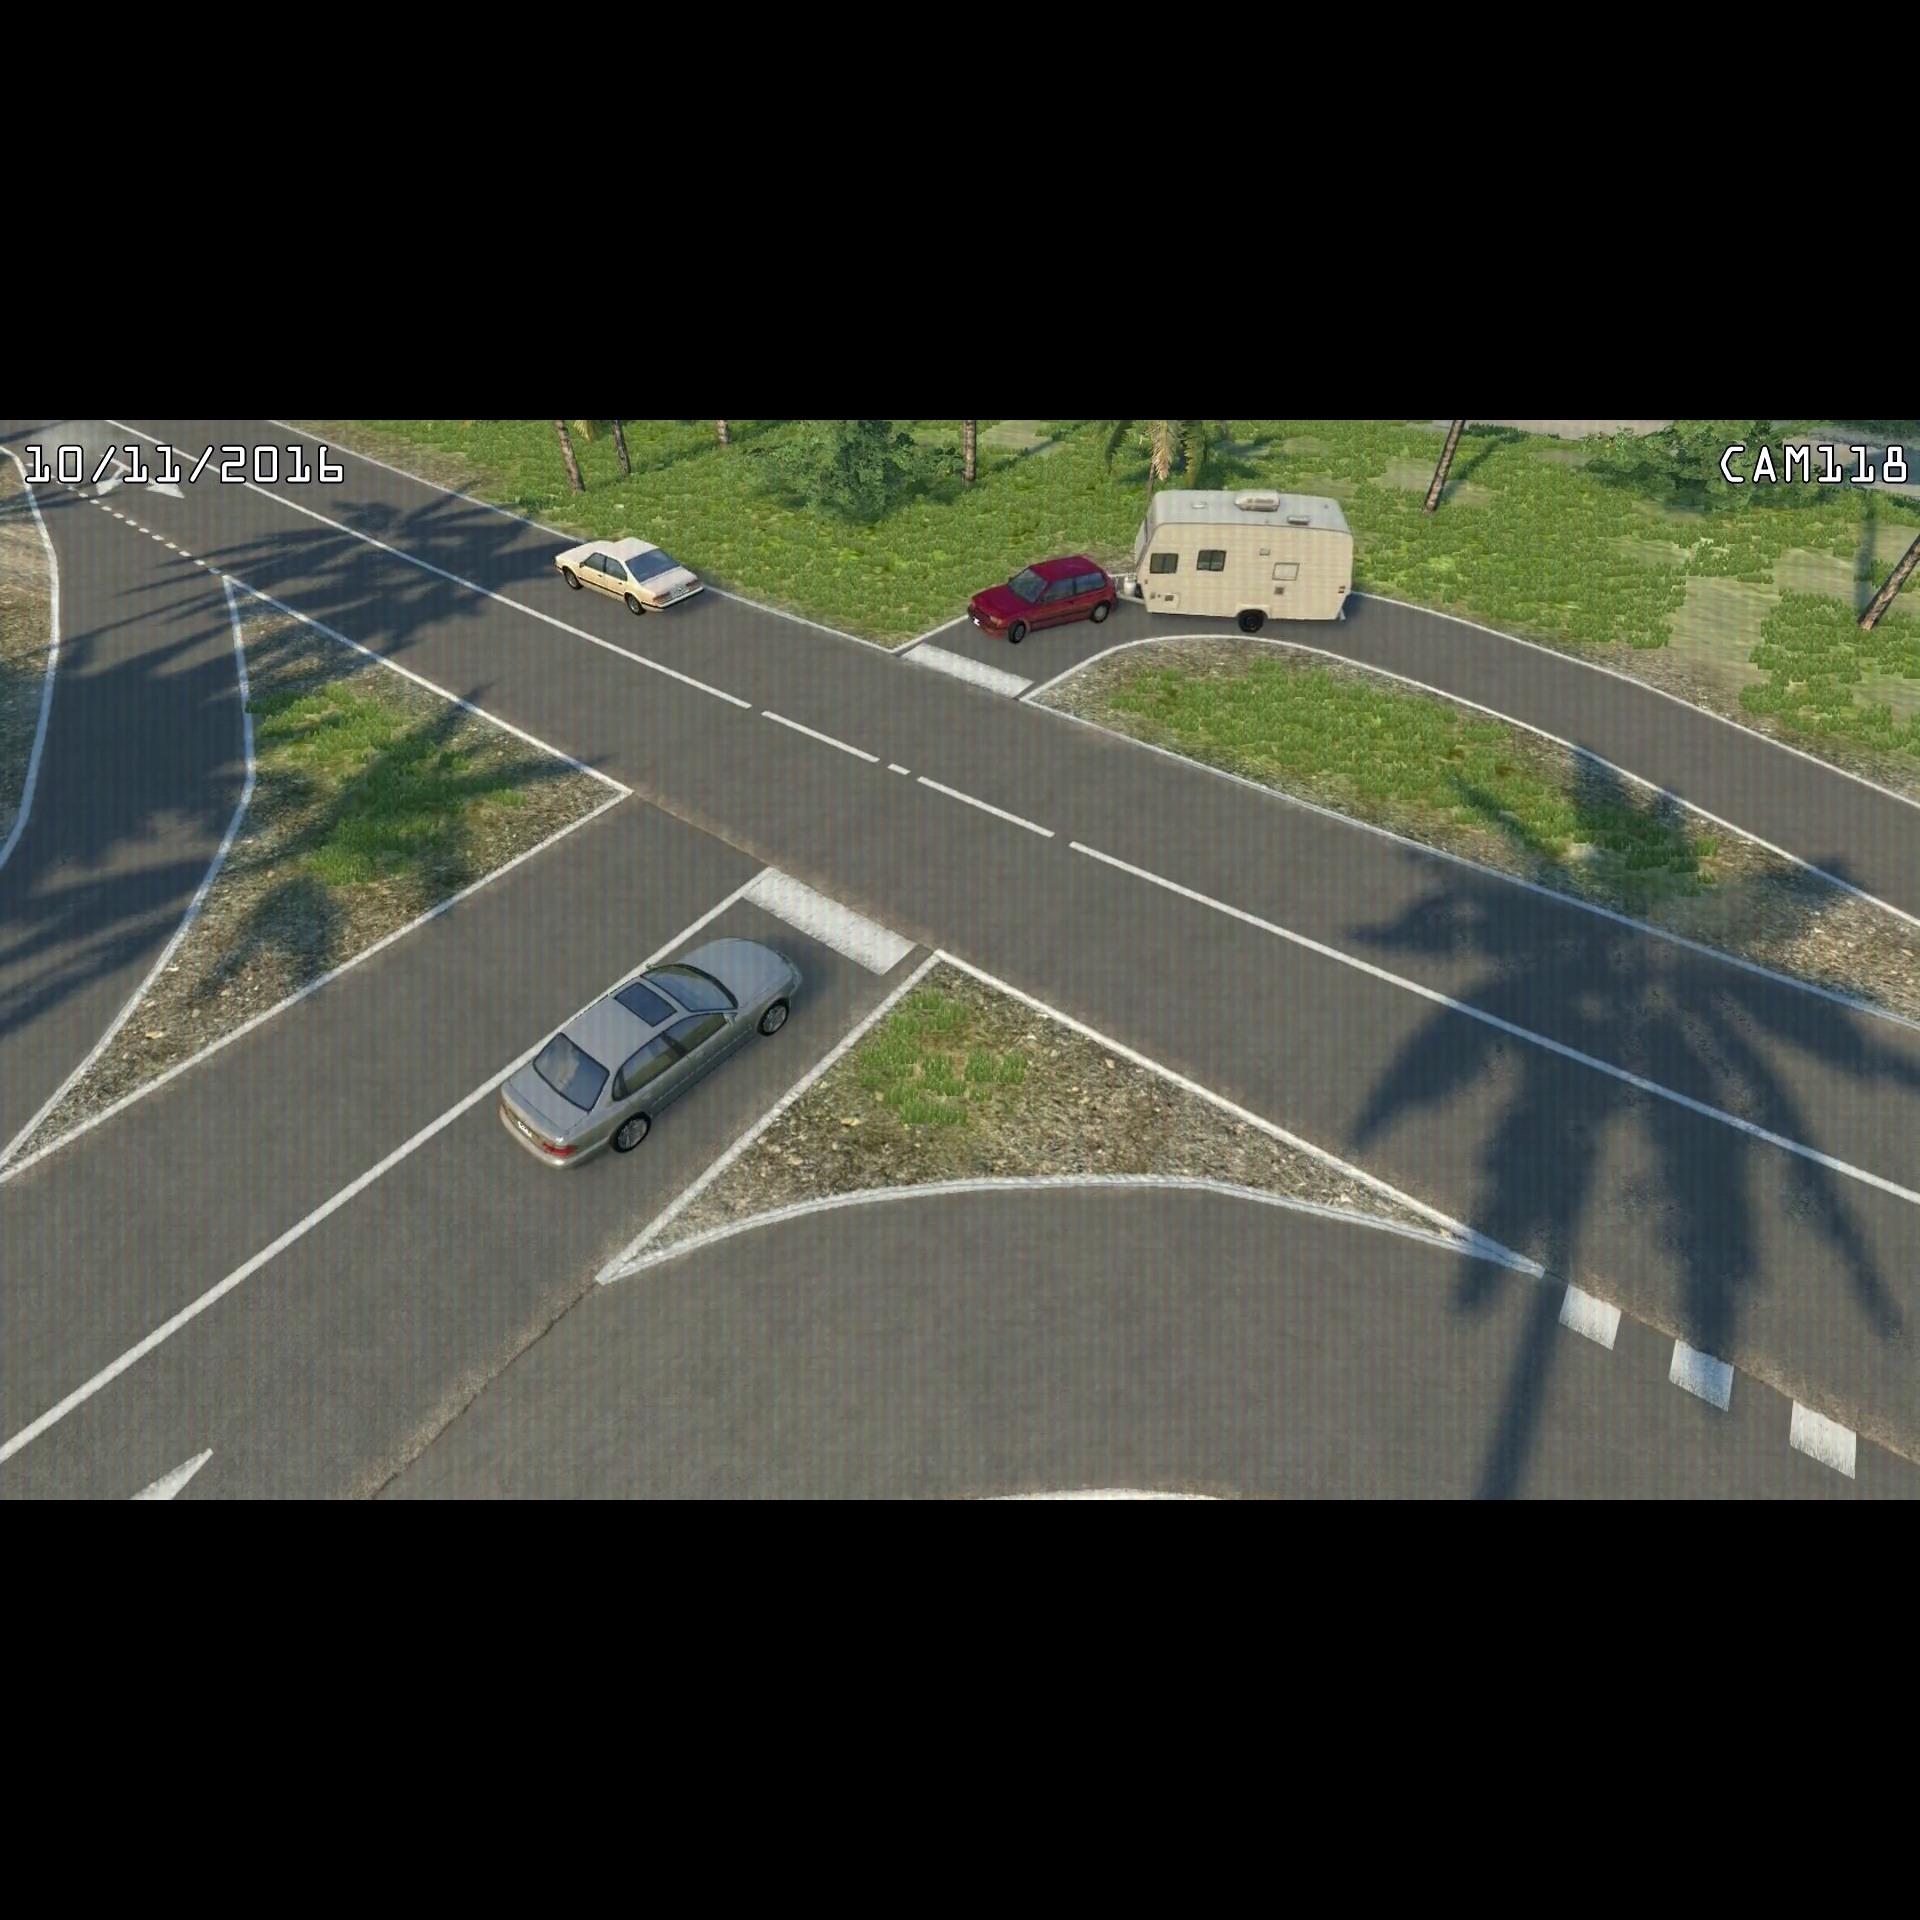vehicle: (489, 920, 811, 1183), (1116, 476, 1363, 642), (964, 549, 1124, 649), (550, 522, 710, 619)
